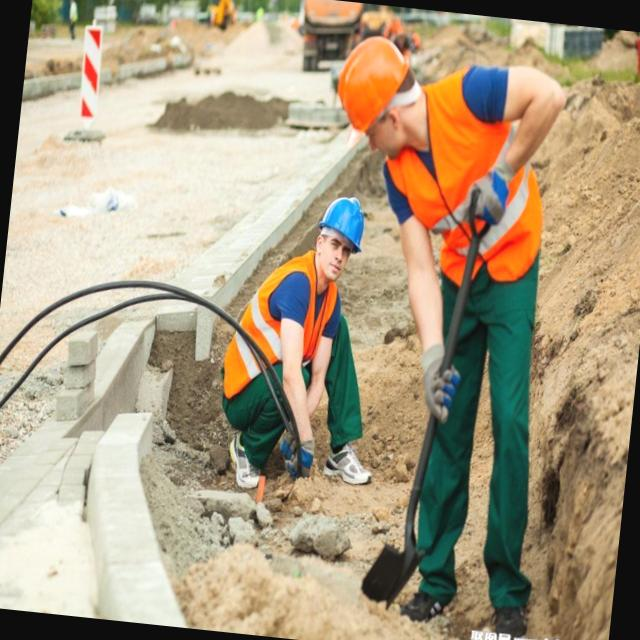helmet: (326, 34, 411, 156), (312, 192, 369, 262)
vest: (378, 70, 554, 282), (220, 234, 339, 412)
